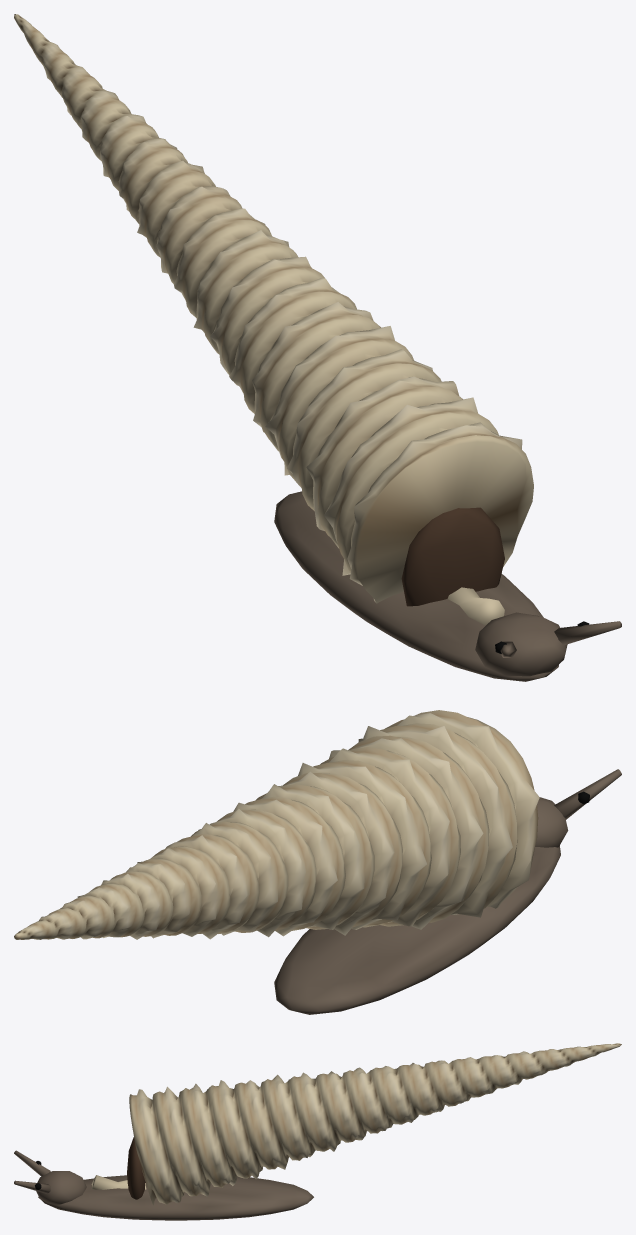
File: CampanileGiganteum.fbx
The picture shows the model from 3 angles, top to bottom: view 1: azimuth 30°, elevation 25°; view 2: azimuth 150°, elevation 25°; view 3: azimuth 270°, elevation 25°; orthographic projection. The views are drawn at different scales.
Parts seen in each view (by area): view 1: CampanileGiganteum; view 2: CampanileGiganteum; view 3: CampanileGiganteum.
Boxes of the visible parts, x1=… form: CampanileGiganteum: x1=14, y1=14, x2=621, y2=681; CampanileGiganteum: x1=14, y1=710, x2=621, y2=1014; CampanileGiganteum: x1=14, y1=1043, x2=621, y2=1220.
Size of the model in its own units: 0.3714 by 0.561 by 1.85.
